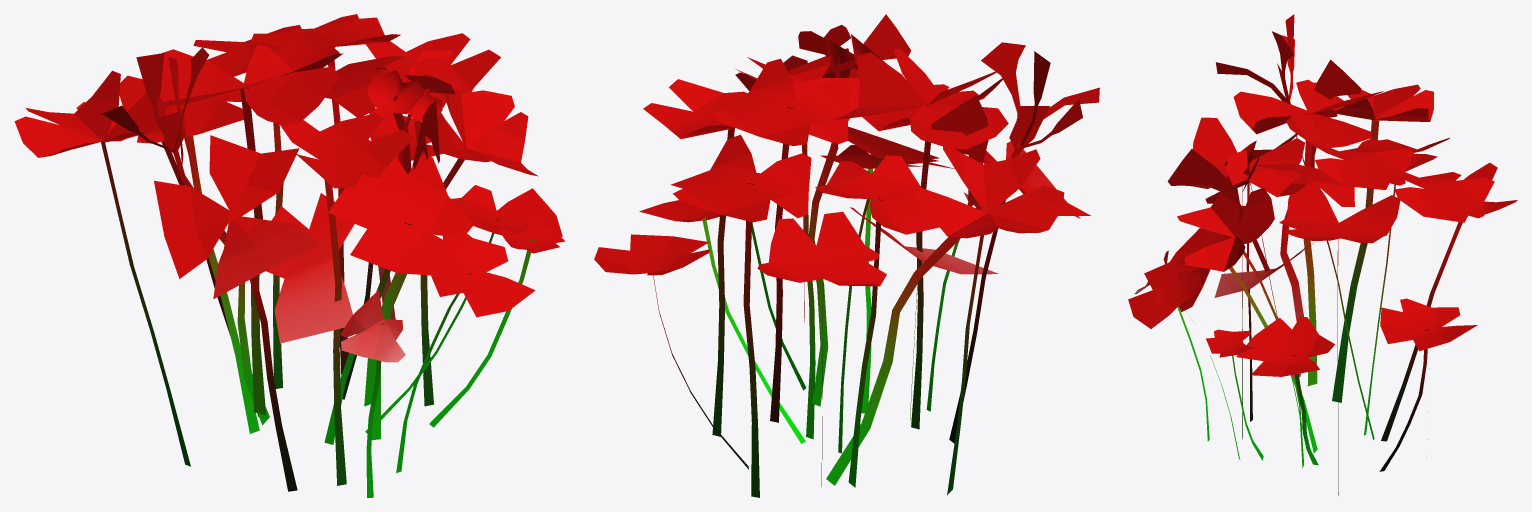
File: Purple_Shamrock_rjrrH_Mid_rjrrH_Oxalis_LOD0.fbx
3 views of the same model, side by side, from view 1: azimuth 30°, elevation 25°; view 2: azimuth 150°, elevation 25°; view 3: azimuth 270°, elevation 25° (orthographic). The views are drawn at different scales.
Parts seen in each view (by area): view 1: Oxalis_Var3_LOD1; view 2: Oxalis_Var3_LOD1; view 3: Oxalis_Var3_LOD1.
Part boxes in pixels (x1,y1,x2,y2): Oxalis_Var3_LOD1: (14, 14, 564, 497); Oxalis_Var3_LOD1: (594, 14, 1099, 497); Oxalis_Var3_LOD1: (1128, 14, 1517, 495).
Bounding box in the file's own units: 26.34 × 24.49 × 23.98.
